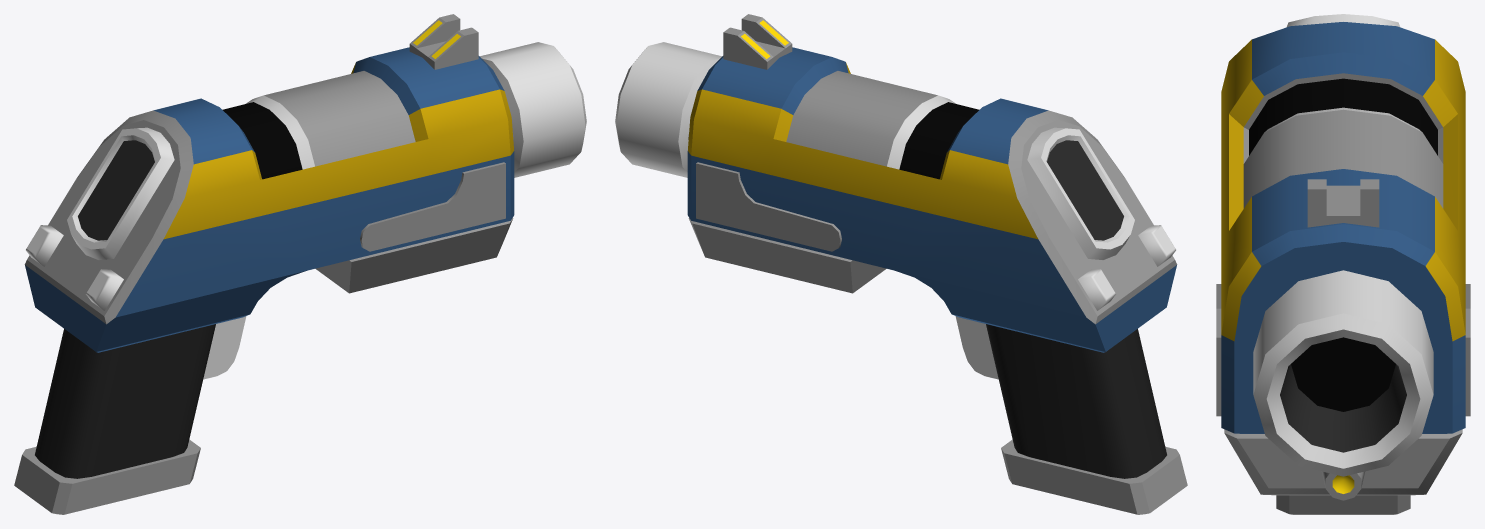
The model's file is BurstPistol.FBX.
3 views of the same model, side by side, from view 1: azimuth 30°, elevation 25°; view 2: azimuth 150°, elevation 25°; view 3: azimuth 270°, elevation 25° (orthographic). The views are drawn at different scales.
Parts seen in each view (by area): view 1: BurstPistol; view 2: BurstPistol; view 3: BurstPistol.
Boxes of the visible parts, x1,y1,x2,y2 form: BurstPistol: (14, 14, 586, 514); BurstPistol: (615, 14, 1187, 514); BurstPistol: (1216, 14, 1470, 514).
Bounding box in the file's own units: 157 × 106 × 45.95.
